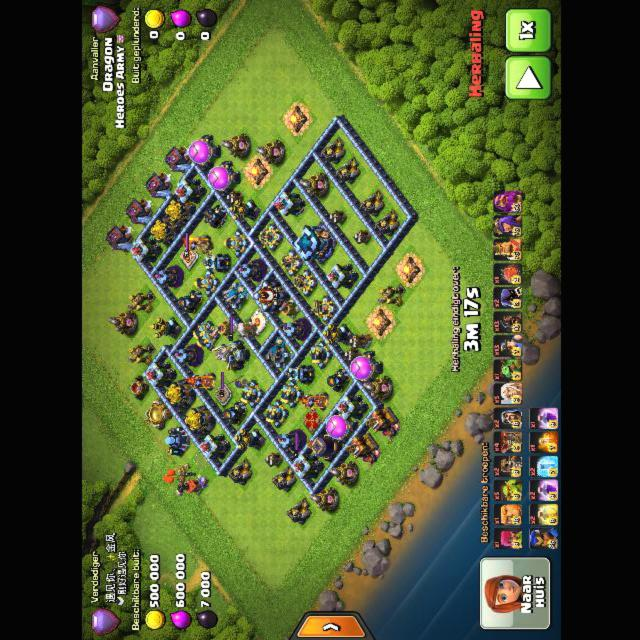AD: (232, 429, 265, 451), (148, 318, 180, 340), (227, 200, 259, 222), (321, 324, 350, 346)
AirSweeper: (208, 319, 234, 339), (277, 298, 299, 319)
BombTower: (201, 255, 230, 273), (283, 366, 312, 384)
Canon: (191, 321, 218, 351), (192, 268, 218, 297), (221, 229, 247, 258), (238, 381, 263, 409), (307, 340, 331, 369), (263, 399, 287, 428), (278, 381, 301, 409)
ClanCastle: (251, 280, 288, 312)
Eagle: (210, 340, 249, 371)
Inferno: (184, 373, 214, 390), (299, 392, 327, 410), (180, 236, 208, 252)
KingPad: (178, 246, 197, 269)
Mortar: (175, 289, 201, 314), (202, 204, 227, 229), (221, 401, 246, 426), (325, 368, 349, 393)
QueenPad: (300, 408, 320, 434)
RcPad: (213, 384, 229, 405)
Scattershot: (264, 337, 291, 369), (220, 282, 247, 310)
TH13: (290, 226, 335, 262)
WardenPad: (246, 311, 264, 334)
WizzTower: (153, 266, 182, 288), (173, 345, 202, 367), (281, 319, 310, 341), (237, 259, 266, 280), (275, 431, 301, 452)
Xbow: (309, 295, 336, 323), (290, 269, 316, 297), (257, 223, 282, 252), (279, 250, 302, 278)
